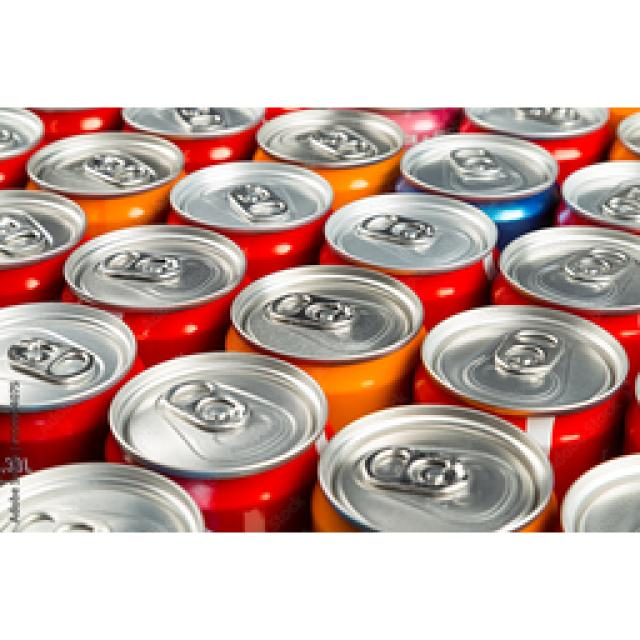aluminum_soda_cans: (312, 400, 543, 532), (123, 356, 315, 476), (438, 297, 584, 395), (274, 265, 404, 362), (0, 305, 105, 425), (94, 228, 234, 310), (343, 197, 475, 270), (520, 232, 640, 288)
